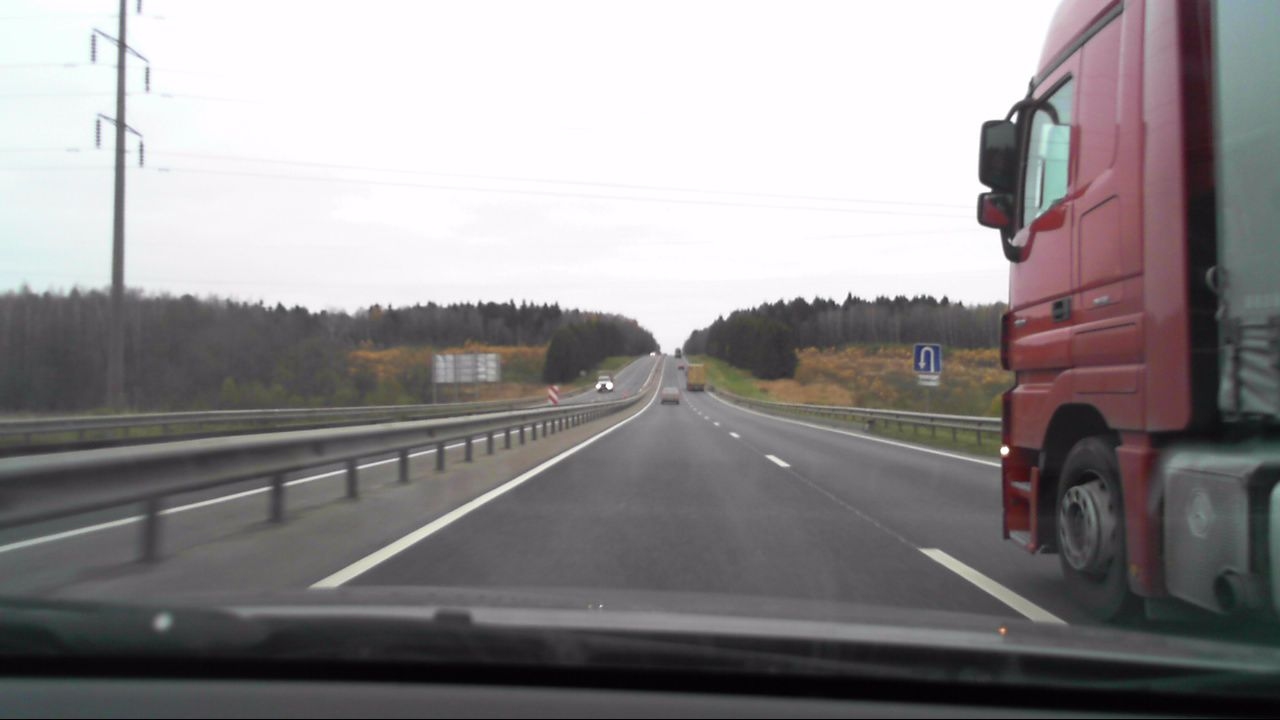U-turn: (915, 345, 940, 372)
